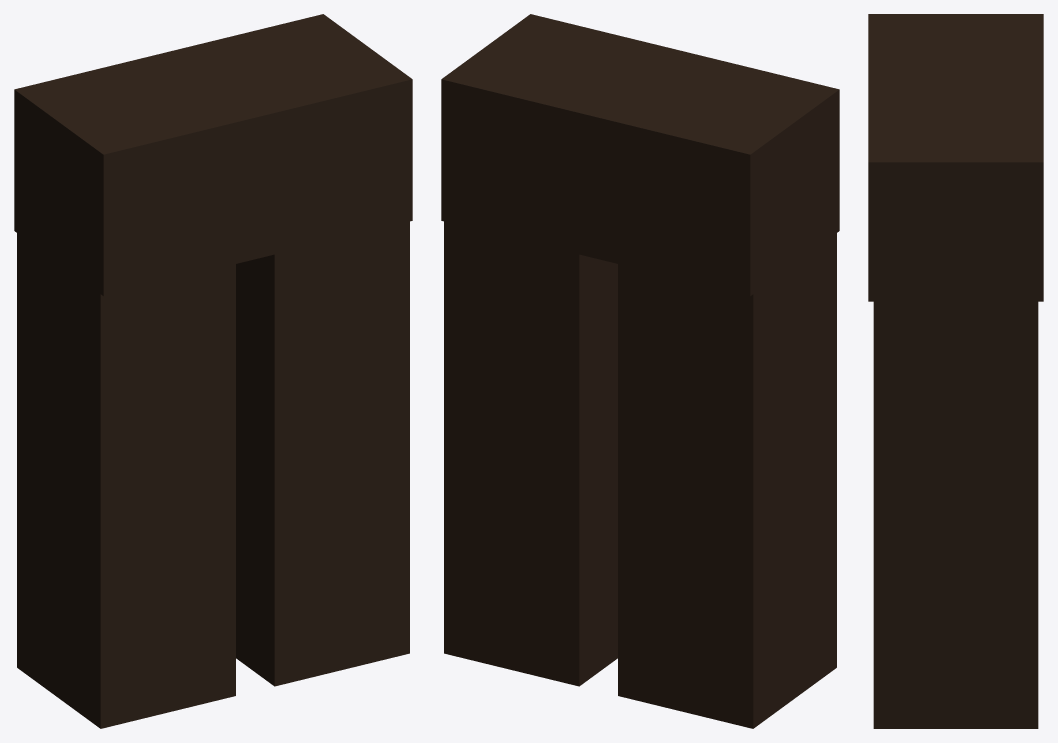
File: leather_leggings.glb
The picture shows the model from 3 angles, left to right: view 1: azimuth 30°, elevation 25°; view 2: azimuth 150°, elevation 25°; view 3: azimuth 270°, elevation 25°; orthographic projection.
Visible parts, largest first — view 1: leg0, hip, leg1; view 2: leg0, hip, leg1; view 3: leg1, hip.
Part boxes in pixels (x1,y1,x2,y2): leg0: (17,162,235,728); hip: (14,14,412,296); leg1: (236,221,409,686); leg0: (618,162,836,728); hip: (441,14,839,296); leg1: (444,221,617,686); leg1: (873,232,1038,728); hip: (868,14,1043,301).
Size of the model in its own units: 0.32 by 0.57 by 0.16.
